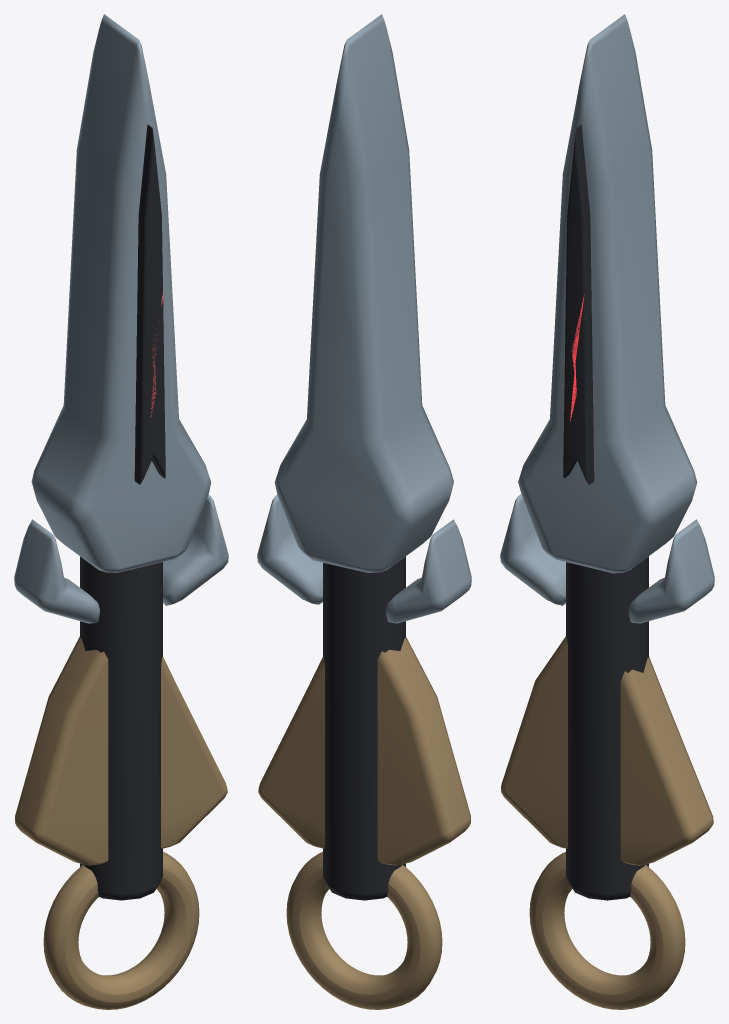
File: feather-fang.glb
3 renders of one model, left to right at view 1: azimuth 30°, elevation 25°; view 2: azimuth 150°, elevation 25°; view 3: azimuth 330°, elevation 25°, orthographic.
Visible parts, largest first — view 1: Spire forged blade.005, Knife feather tang, Knife tang, Finger ring, Recessed angular fuller.004, Forged hooked thorn.022, Forged hooked thorn.023; view 2: Spire forged blade.005, Knife feather tang, Knife tang, Finger ring, Forged hooked thorn.022, Forged hooked thorn.023; view 3: Spire forged blade.005, Knife feather tang, Knife tang, Finger ring, Recessed angular fuller.004, Forged hooked thorn.023, Forged hooked thorn.022.
Boxes of the visible parts, x1,y1,x2,y2 form: Spire forged blade.005: (31,14,211,572); Knife feather tang: (15,636,227,865); Knife tang: (80,556,162,900); Finger ring: (43,852,199,1009); Recessed angular fuller.004: (134,124,165,484); Forged hooked thorn.022: (14,519,99,623); Forged hooked thorn.023: (163,495,228,605); Spire forged blade.005: (274,14,453,572); Knife feather tang: (258,637,470,865); Knife tang: (323,556,405,900); Finger ring: (286,852,442,1009); Forged hooked thorn.022: (386,519,471,623); Forged hooked thorn.023: (257,495,322,604); Spire forged blade.005: (518,14,697,573); Knife feather tang: (501,636,713,865); Knife tang: (566,556,648,900); Finger ring: (529,852,685,1009); Recessed angular fuller.004: (563,124,594,484); Forged hooked thorn.023: (629,519,714,623); Forged hooked thorn.022: (500,494,565,605).
Bounding box in the file's own units: 0.1028 × 0.4954 × 0.054.
